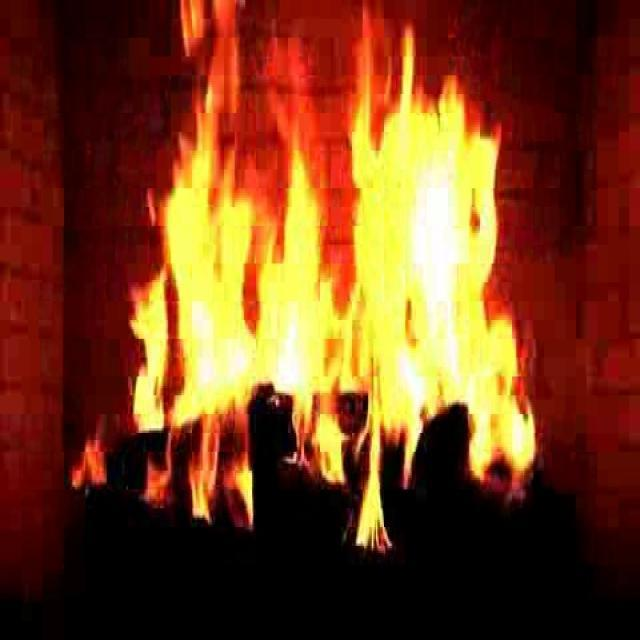Fire: (142, 84, 513, 505)
